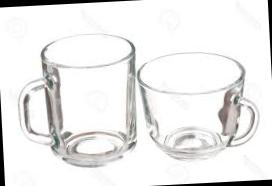glass: (8, 20, 150, 180), (131, 49, 262, 169)
